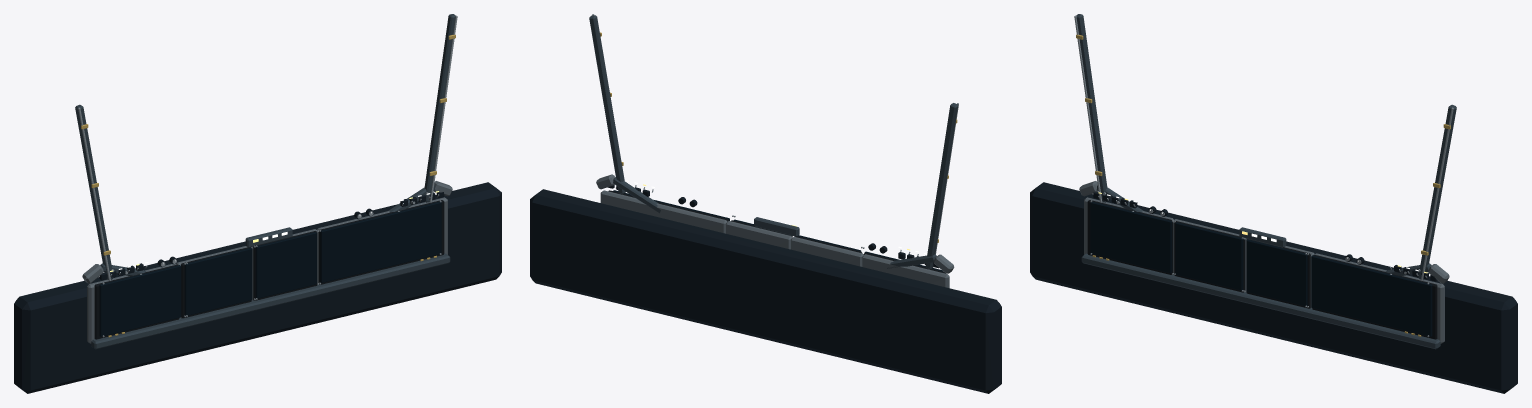
The model's file is cockpit_fleet_a.glb.
The picture shows the model from 3 angles, left to right: view 1: azimuth 30°, elevation 25°; view 2: azimuth 150°, elevation 25°; view 3: azimuth 330°, elevation 25°; orthographic projection. The views are drawn at different scales.
Parts seen in each view (by area): view 1: Kestrel_Flotte_A_Cockpit; view 2: Kestrel_Flotte_A_Cockpit; view 3: Kestrel_Flotte_A_Cockpit.
Boxes of the visible parts, x1=… form: Kestrel_Flotte_A_Cockpit: x1=14, y1=14, x2=501, y2=393; Kestrel_Flotte_A_Cockpit: x1=530, y1=14, x2=1001, y2=393; Kestrel_Flotte_A_Cockpit: x1=1030, y1=14, x2=1517, y2=393.
Bounding box in the file's own units: 3.48 × 1.94 × 0.293.
